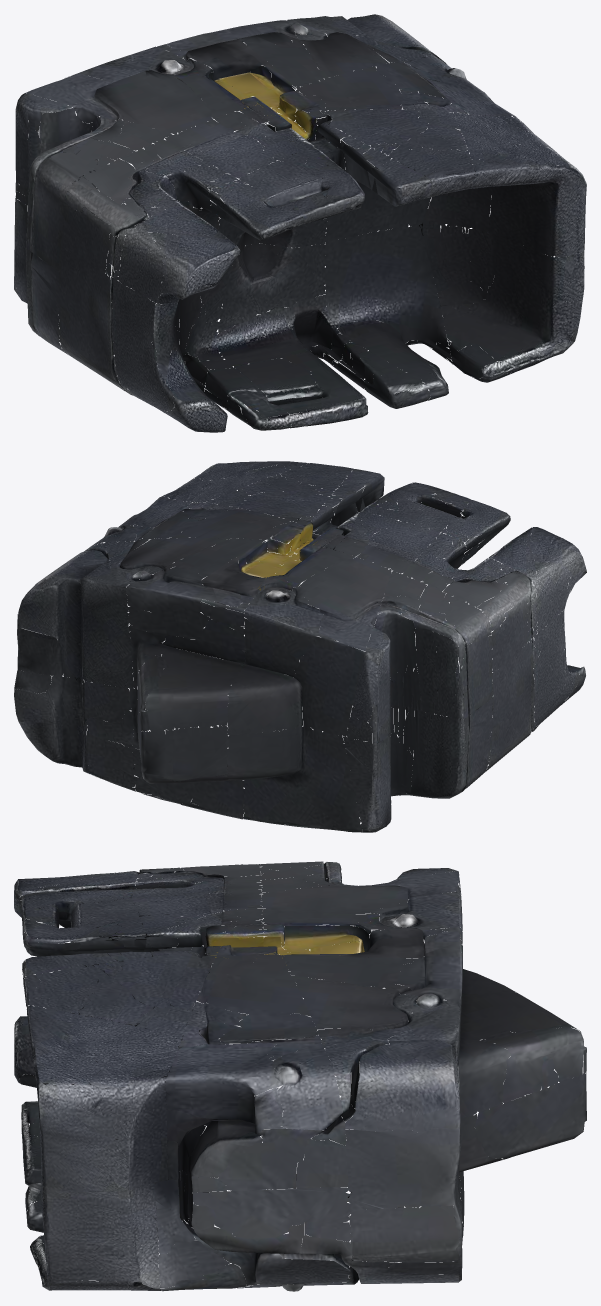
File: adaptateur-accu.glb
The picture shows the model from 3 angles, top to bottom: view 1: azimuth 30°, elevation 25°; view 2: azimuth 150°, elevation 25°; view 3: azimuth 270°, elevation 25°; orthographic projection. The views are drawn at different scales.
Visible parts, largest first — view 1: tripo_node_6883a8f3-06dd-4b8d-b7ac-3e597227ce00; view 2: tripo_node_6883a8f3-06dd-4b8d-b7ac-3e597227ce00; view 3: tripo_node_6883a8f3-06dd-4b8d-b7ac-3e597227ce00.
Boxes of the visible parts, x1,y1,x2,y2 form: tripo_node_6883a8f3-06dd-4b8d-b7ac-3e597227ce00: (14, 14, 586, 432); tripo_node_6883a8f3-06dd-4b8d-b7ac-3e597227ce00: (14, 461, 586, 832); tripo_node_6883a8f3-06dd-4b8d-b7ac-3e597227ce00: (14, 861, 586, 1291).
Size of the model in its own units: 0.9571 by 0.5002 by 0.978.
1 material, 1 textured.
